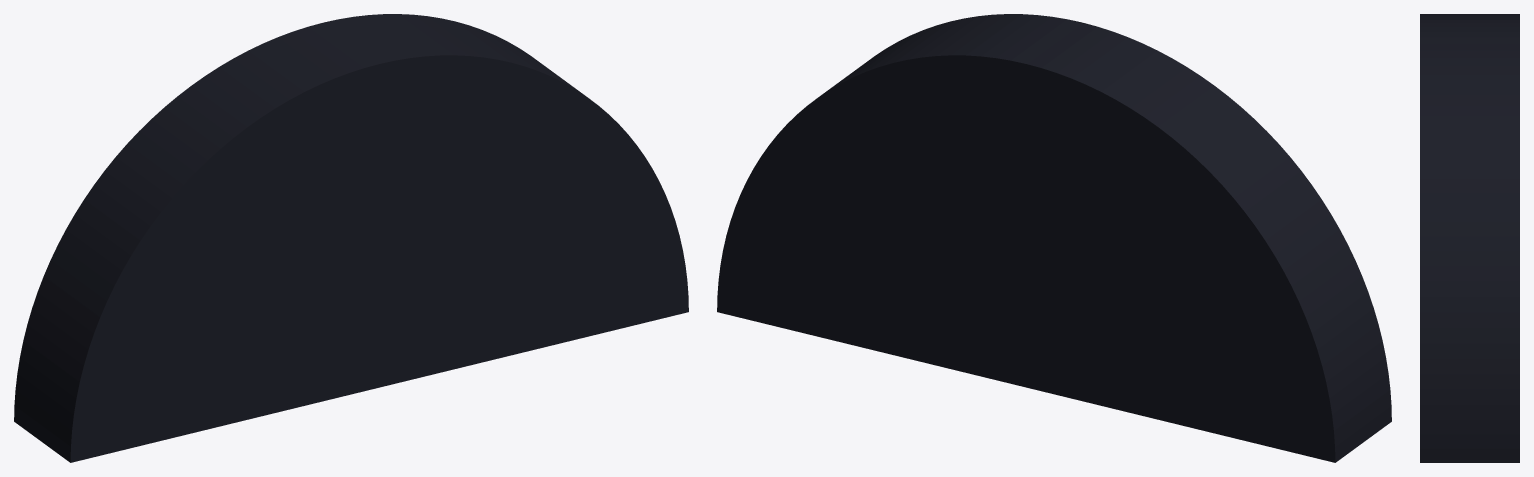
File: LD50-Obstacle-Wall-Half-01.glb
3 renders of one model, left to right at view 1: azimuth 30°, elevation 25°; view 2: azimuth 150°, elevation 25°; view 3: azimuth 270°, elevation 25°, orthographic. The views are drawn at different scales.
Parts seen in each view (by area): view 1: Obstacle-Wall-Half-01; view 2: Obstacle-Wall-Half-01; view 3: Obstacle-Wall-Half-01.
Part boxes in pixels (x1=…): Obstacle-Wall-Half-01: x1=14, y1=14, x2=688, y2=462; Obstacle-Wall-Half-01: x1=717, y1=14, x2=1391, y2=462; Obstacle-Wall-Half-01: x1=1420, y1=14, x2=1519, y2=462.
Bounding box in the file's own units: 30 × 15 × 4.75.
Materials: 1 (1 with a texture image).
